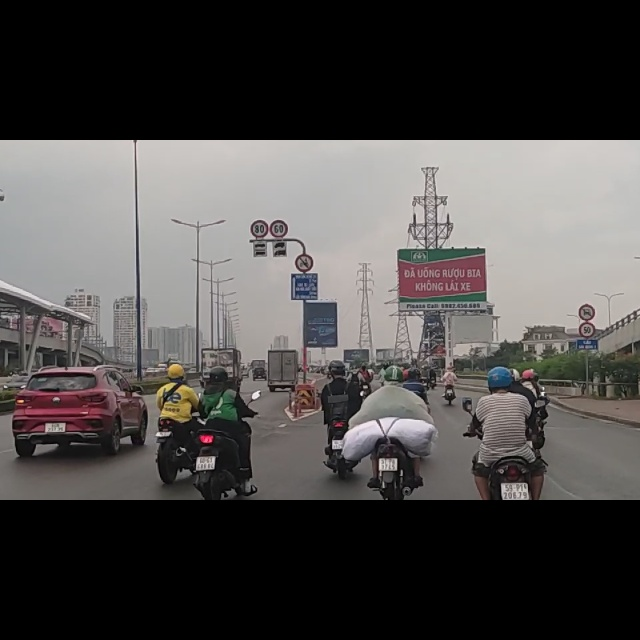bien_cam: (294, 201, 315, 235), (579, 289, 596, 324), (251, 140, 267, 171), (270, 145, 287, 174), (580, 321, 595, 351)
